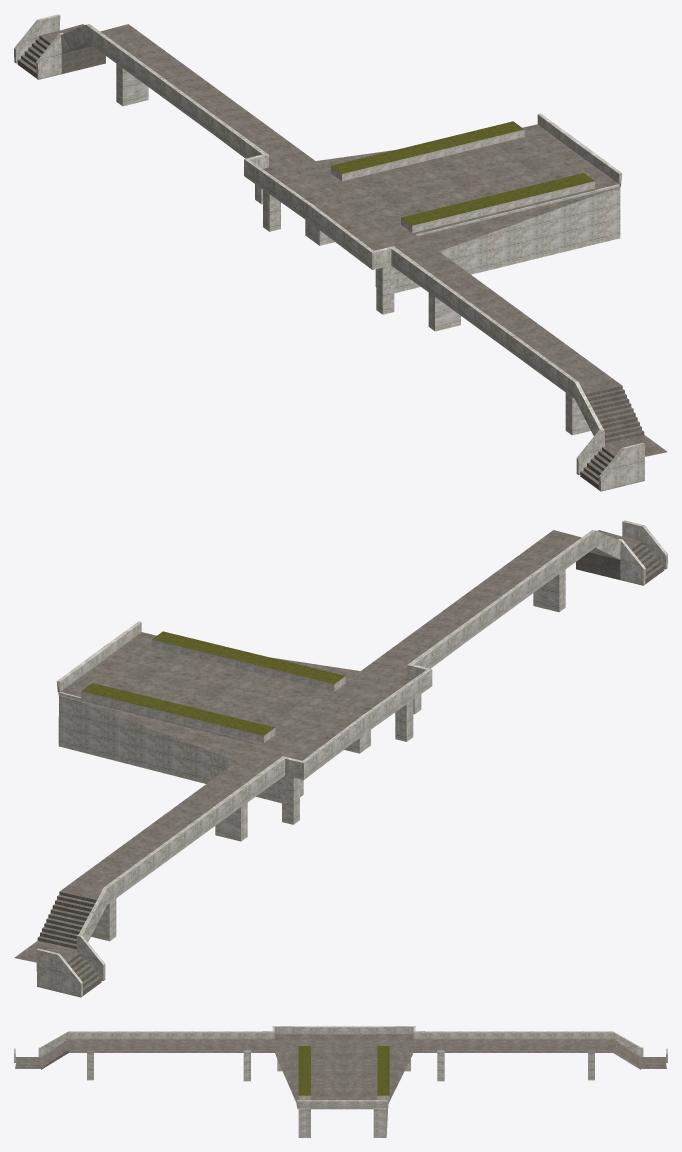
Rendered from balcony_kbolt02.obj.
3 views of the same model, one above another, from view 1: azimuth 30°, elevation 25°; view 2: azimuth 150°, elevation 25°; view 3: azimuth 270°, elevation 25° (orthographic). The views are drawn at different scales.
Parts seen in each view (by area): view 1: balcony_kbolt02; view 2: balcony_kbolt02; view 3: balcony_kbolt02.
Boxes of the visible parts, box(x1,y1,x2,y2) form: balcony_kbolt02: box(14, 14, 667, 491); balcony_kbolt02: box(14, 520, 667, 997); balcony_kbolt02: box(14, 1026, 667, 1137).
Size of the model in its own units: 19.8 by 4.76 by 72.93.
